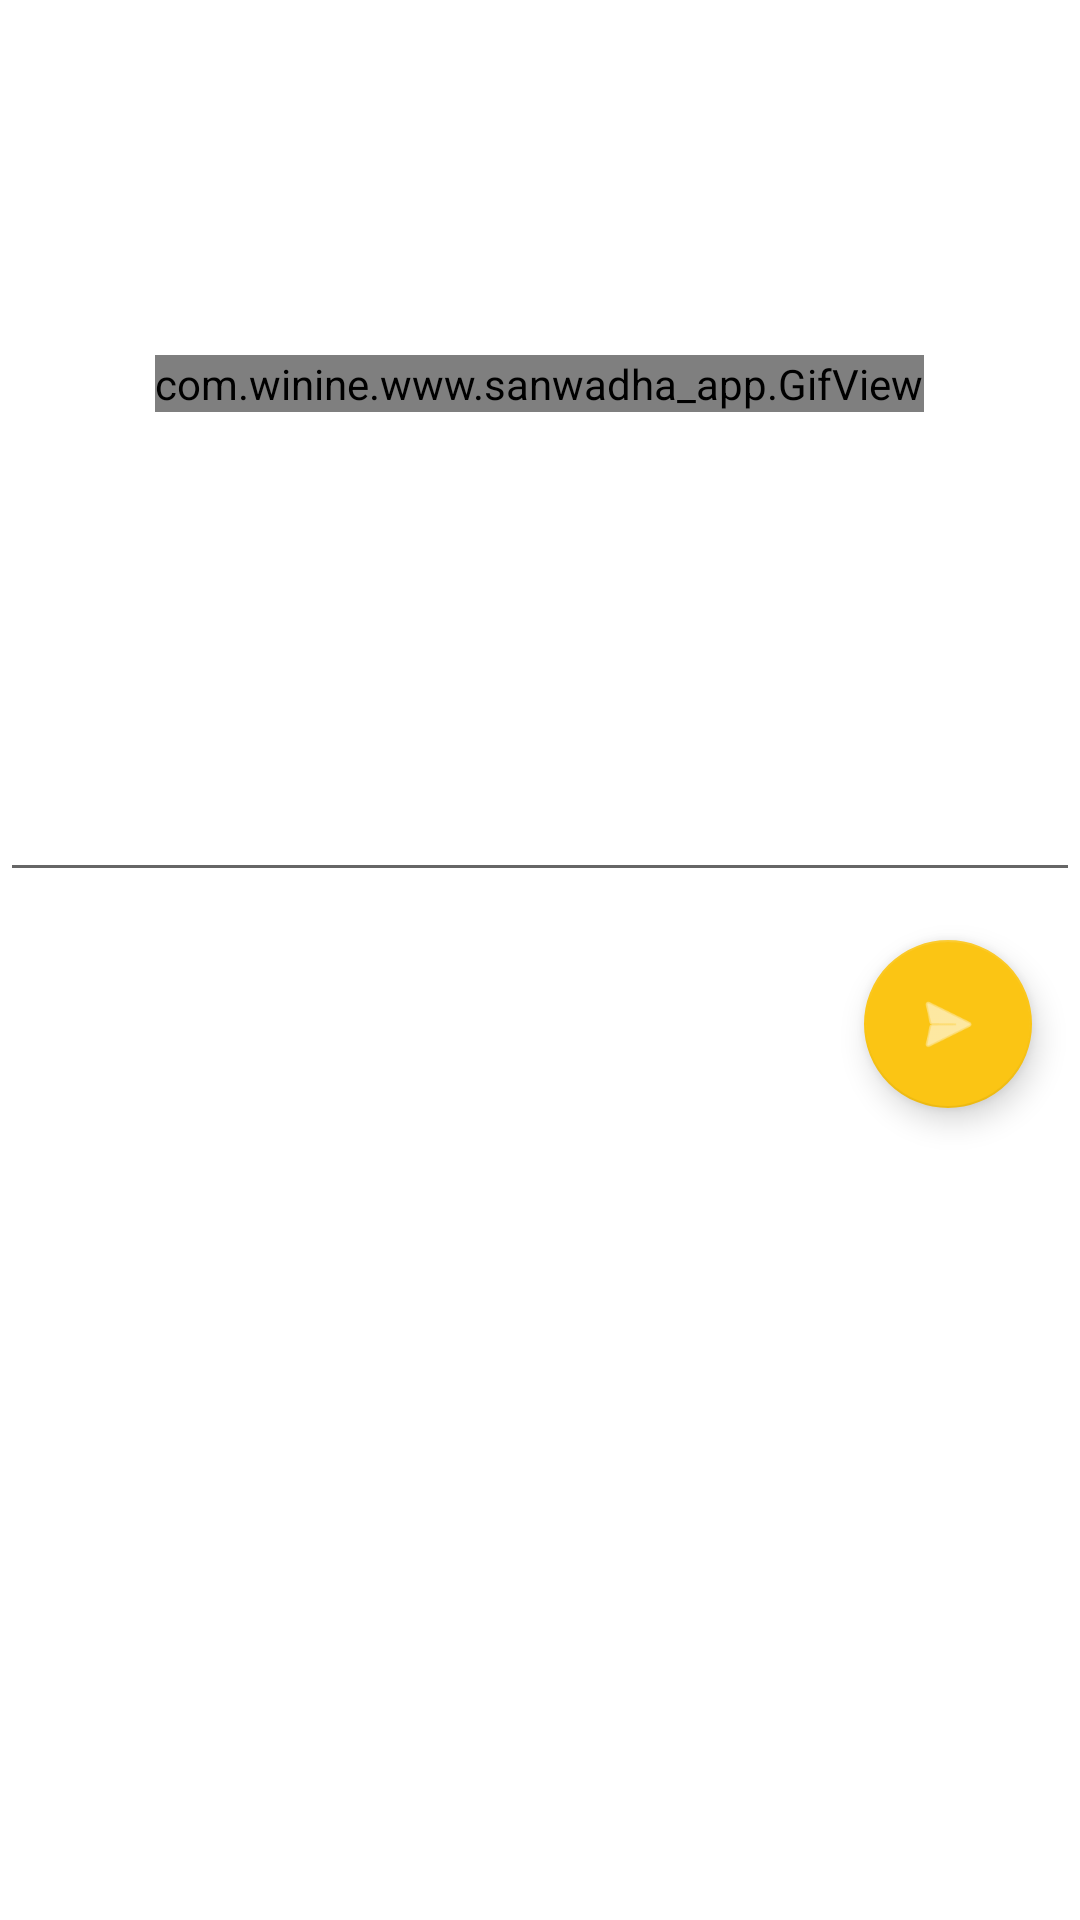

Point at icon controls on the screen. Image size 1080px×1920px, points as point (x, y).
send: point (948, 1024)
